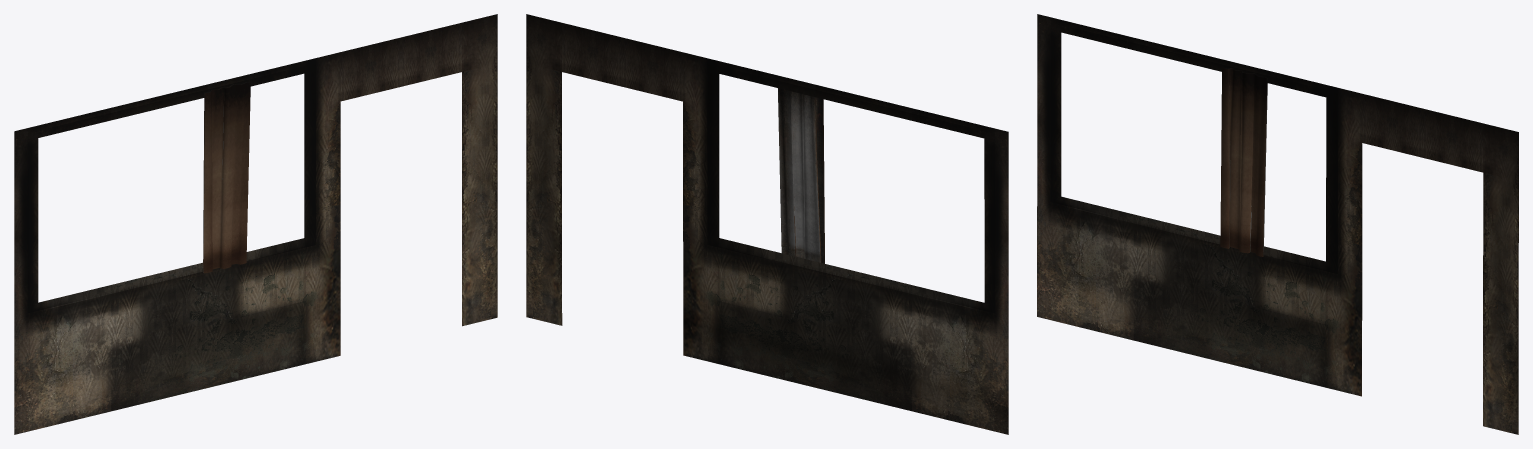
The model's file is Room9.obj.
The picture shows the model from 3 angles, left to right: view 1: azimuth 30°, elevation 25°; view 2: azimuth 150°, elevation 25°; view 3: azimuth 330°, elevation 25°; orthographic projection.
Parts seen in each view (by area): view 1: Room9; view 2: Room9; view 3: Room9.
Boxes of the visible parts, left/top/right/bottom form: Room9: left=14, top=14, right=497, bottom=434; Room9: left=526, top=14, right=1008, bottom=434; Room9: left=1037, top=14, right=1518, bottom=434.
Size of the model in its own units: 42.16 by 25.32 by 0.5409.
